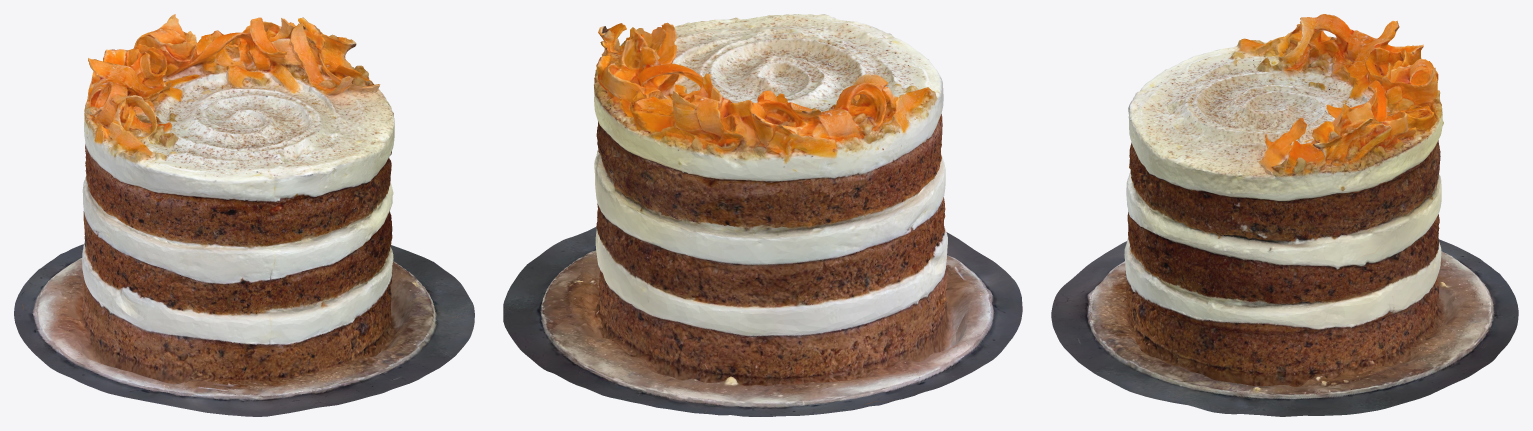
The model's file is carrot-cake.v1.glb.
3 views of the same model, side by side, from view 1: azimuth 30°, elevation 25°; view 2: azimuth 150°, elevation 25°; view 3: azimuth 270°, elevation 25° (orthographic). The views are drawn at different scales.
Parts seen in each view (by area): view 1: Object_4; view 2: Object_4; view 3: Object_4.
Part boxes in pixels (bbox=[...]): Object_4: bbox=[14, 14, 474, 416]; Object_4: bbox=[503, 14, 1022, 416]; Object_4: bbox=[1051, 14, 1518, 416].
Size of the model in its own units: 0.2559 by 0.1713 by 0.2559.
1 material, 1 textured.
